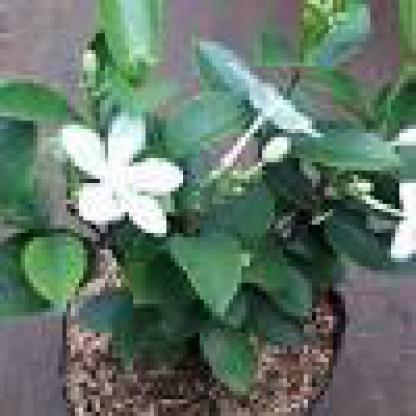Melati: (47, 105, 197, 263), (251, 118, 292, 164)
